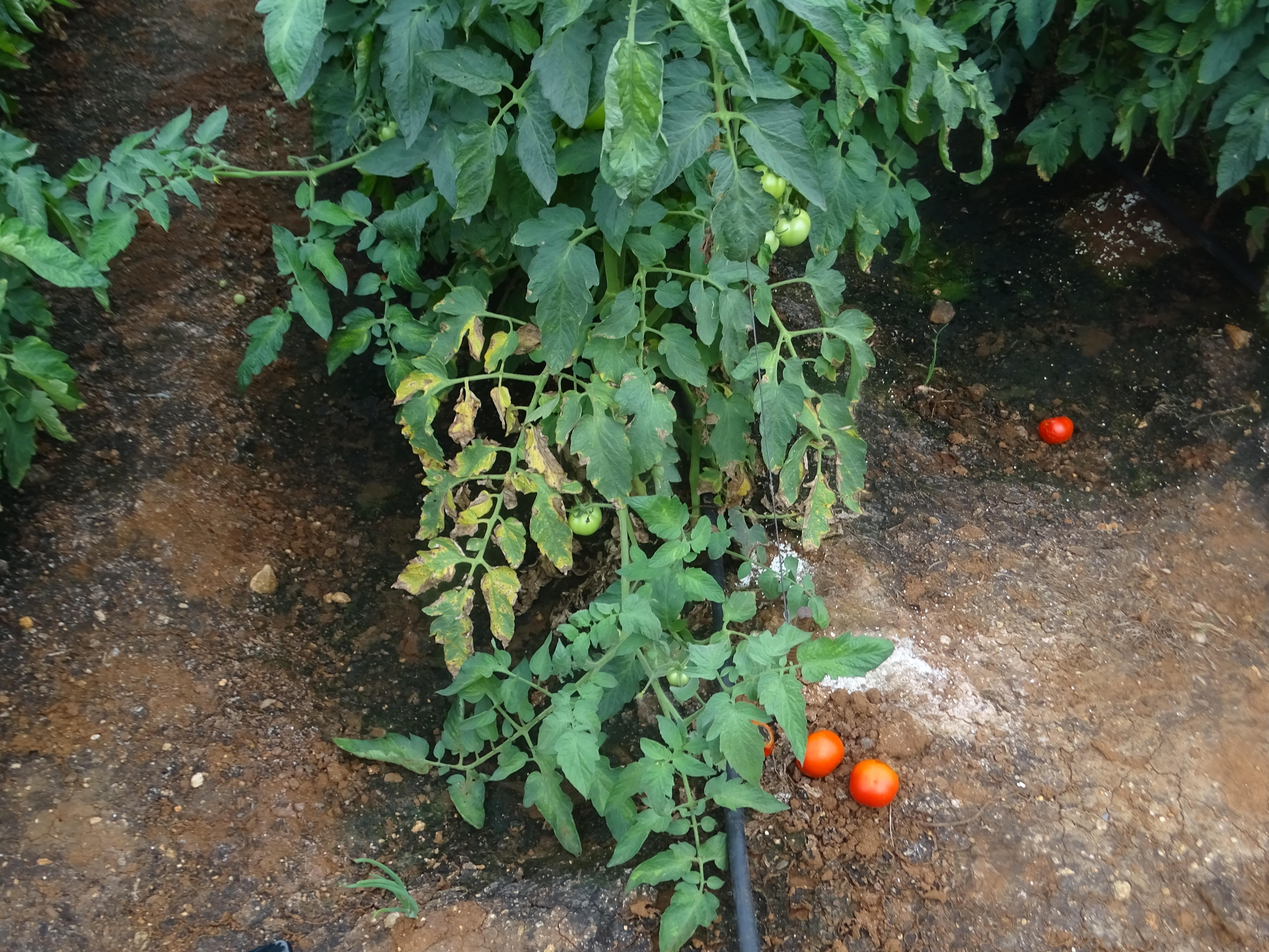Early Blight: (611, 366, 677, 473), (511, 470, 576, 577), (393, 357, 450, 472), (570, 413, 633, 511), (426, 285, 488, 368), (422, 589, 475, 682), (704, 389, 755, 485), (389, 534, 464, 596), (479, 567, 520, 650), (412, 473, 461, 542), (835, 424, 869, 517), (799, 471, 836, 552), (522, 427, 568, 492), (590, 287, 640, 340), (449, 387, 483, 452), (488, 385, 521, 439), (484, 328, 520, 377), (493, 519, 526, 571)
Healthy: (738, 96, 828, 211), (528, 16, 599, 130), (703, 698, 774, 790), (516, 88, 559, 206), (758, 669, 809, 768), (703, 772, 792, 815), (555, 729, 601, 801), (676, 566, 726, 604)
Leaf_Miner: (706, 295, 721, 325)
